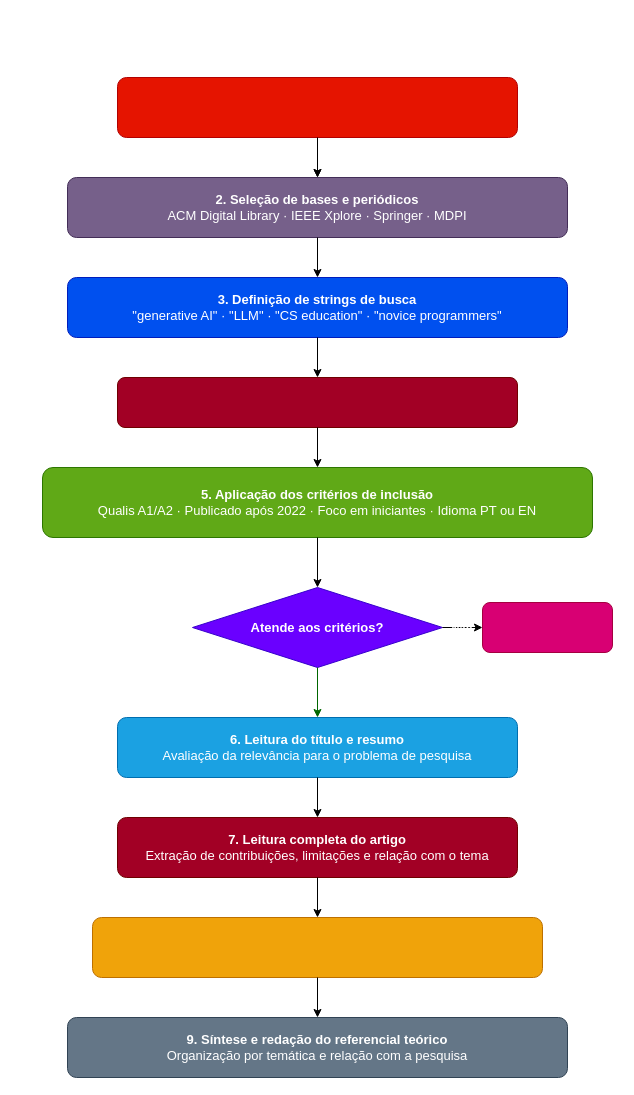
Image size: 634x1095. Some labels were removed from this diagram. Here are the shapes that lost their labels. From the top down, the centre of each, then its label:
At [317,107]: "1. Definição do tema IA generativa e programadores iniciantes".
At [317,402]: "4. Execução da busca nas bases selecionadas".
At [547,627]: "Descartado".
At [317,947]: "8. Corpus final selecionado 6 artigos · 3× Qualis A1 · 3× Qualis A2".
